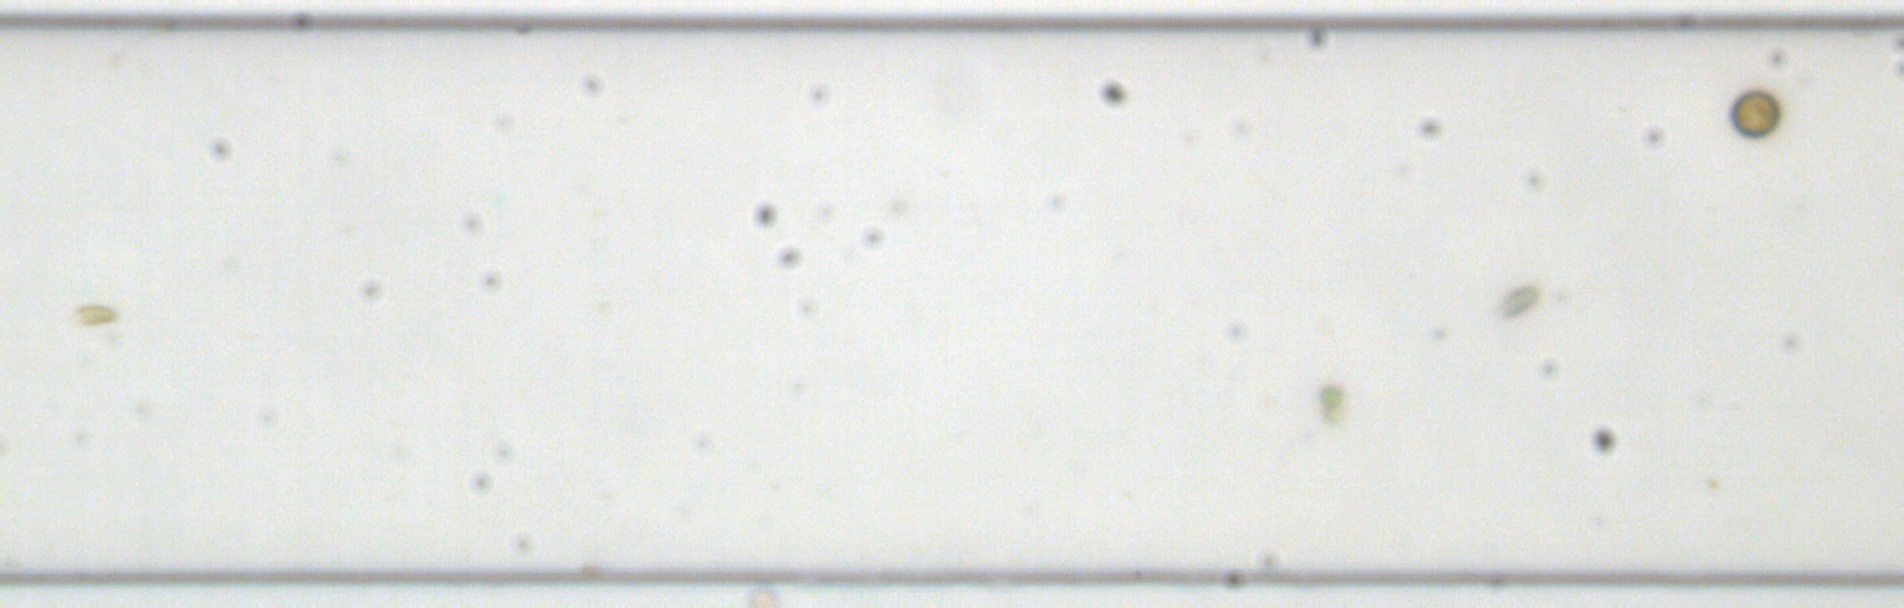Chlorella: (1315, 382, 1343, 409)
Dunaliella salina: (1498, 280, 1543, 320), (69, 301, 124, 326)
Effrenium: (1725, 86, 1783, 140)
